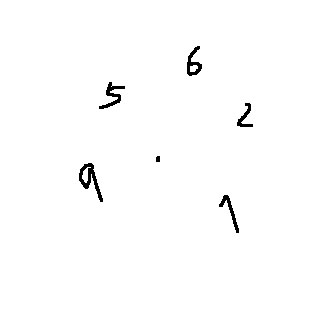.: (150, 147, 171, 171)
1: (213, 184, 252, 242)
2: (234, 95, 262, 134)
5: (98, 80, 135, 121)
6: (182, 35, 209, 82)
9: (66, 160, 123, 208)
